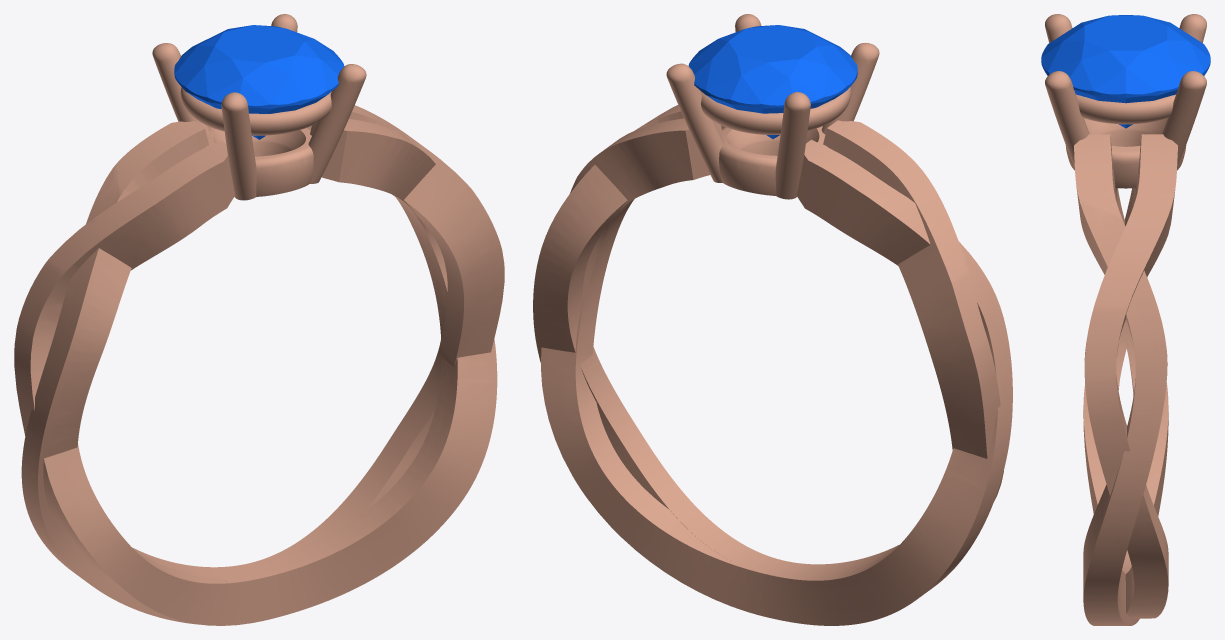
The model's file is bluesapphire-round-rosegold-4prong-twist-nosidestones.glb.
3 renders of one model, left to right at view 1: azimuth 30°, elevation 25°; view 2: azimuth 150°, elevation 25°; view 3: azimuth 270°, elevation 25°, orthographic.
Parts seen in each view (by area): view 1: metal, stone; view 2: metal, stone; view 3: metal, stone.
Part boxes in pixels (x1,y1,x2,y2): metal: (14,14,504,625); stone: (174,25,344,139); metal: (533,14,1012,625); stone: (688,25,857,138); metal: (1045,14,1206,625); stone: (1041,15,1210,128).
Bounding box in the file's own units: 19.97 × 23.72 × 6.44.
